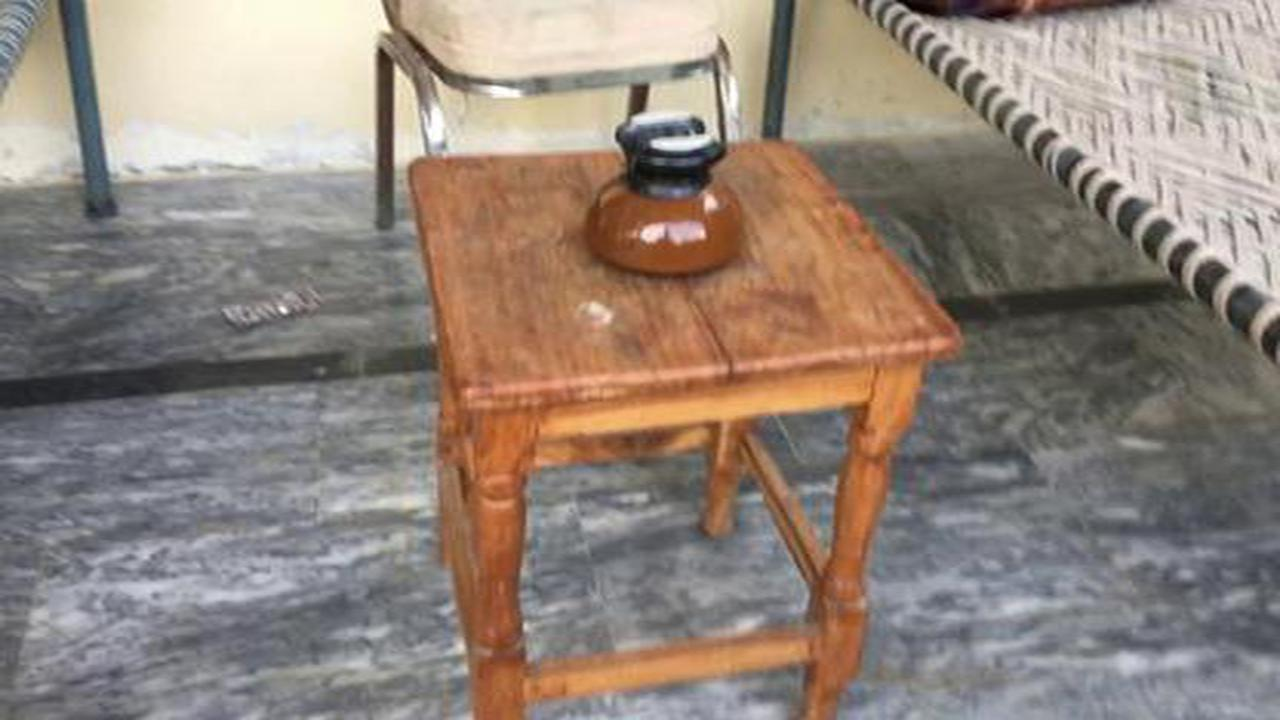insulator_pin: (561, 89, 773, 293)
